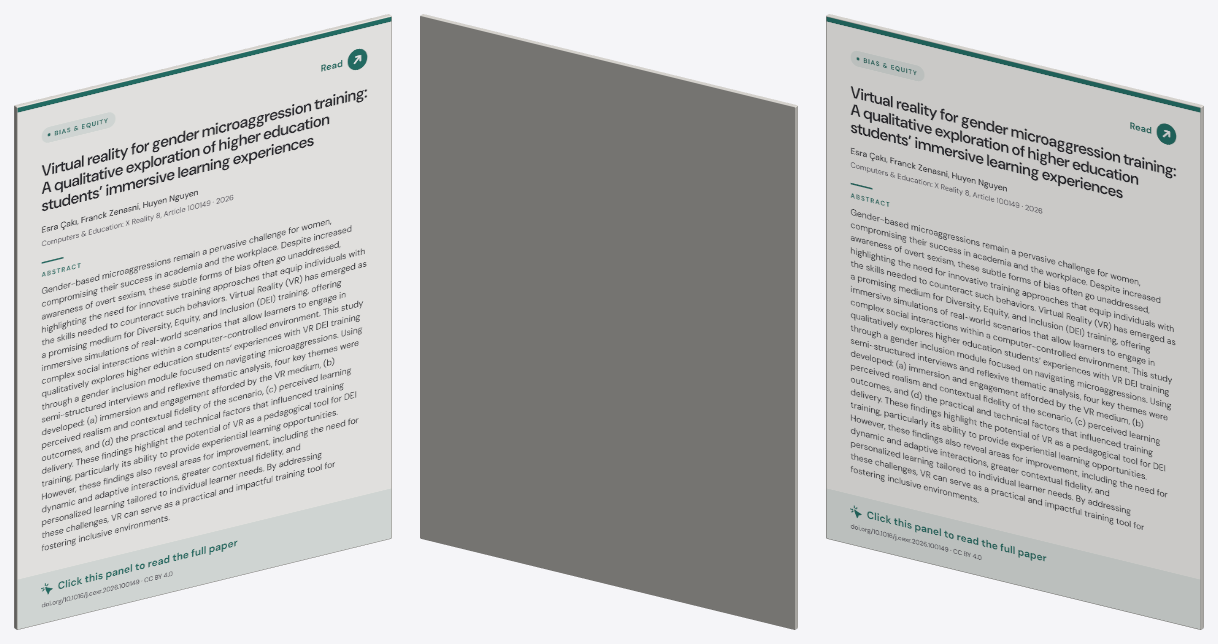
Rendered from caki-2026.glb.
The picture shows the model from 3 angles, left to right: view 1: azimuth 30°, elevation 25°; view 2: azimuth 150°, elevation 25°; view 3: azimuth 330°, elevation 25°; orthographic projection.
Parts seen in each view (by area): view 1: caki-2026; view 2: caki-2026; view 3: caki-2026.
Boxes of the visible parts, <box> form: caki-2026: <box>14,14,391,629</box>; caki-2026: <box>420,14,797,629</box>; caki-2026: <box>826,14,1203,629</box>.
Bounding box in the file's own units: 0.904 × 1.2 × 0.012.
2 materials, 1 textured.
